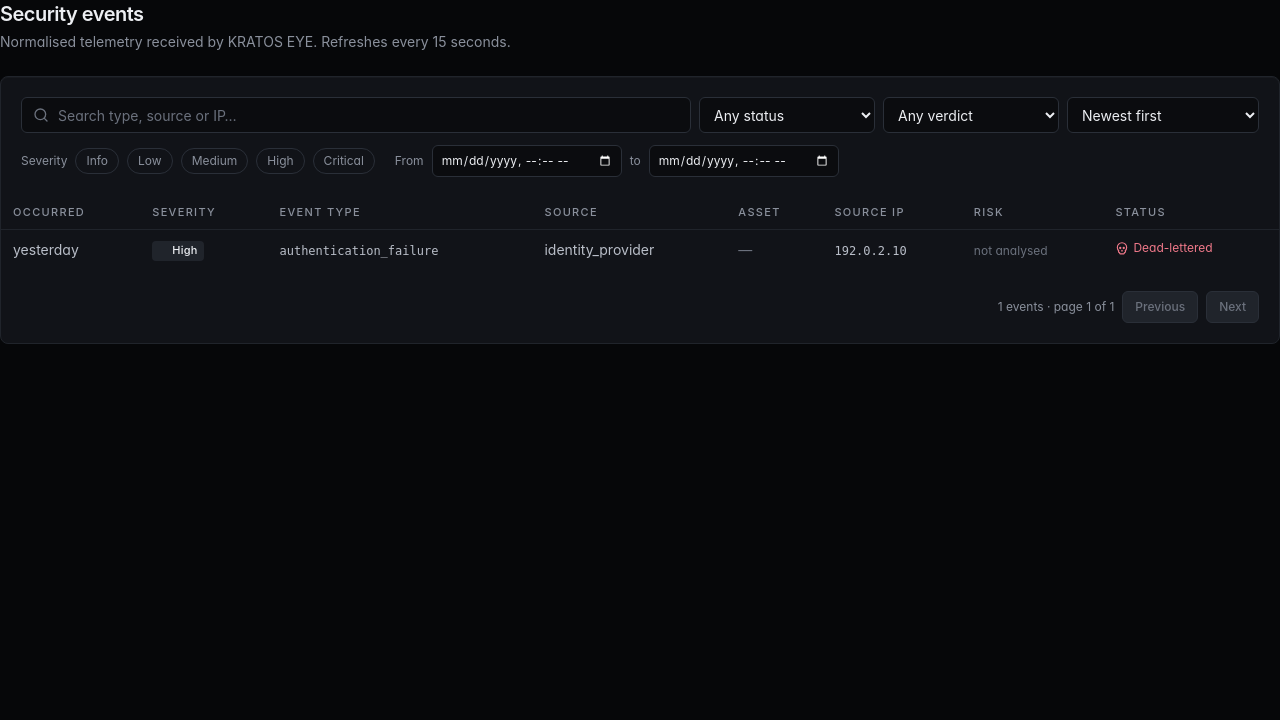
Test: EventsPage › shows replay for analysts on dead-lettered events
Click the text "authentication_failure".
click(359, 251)  # box [280,244,438,258]
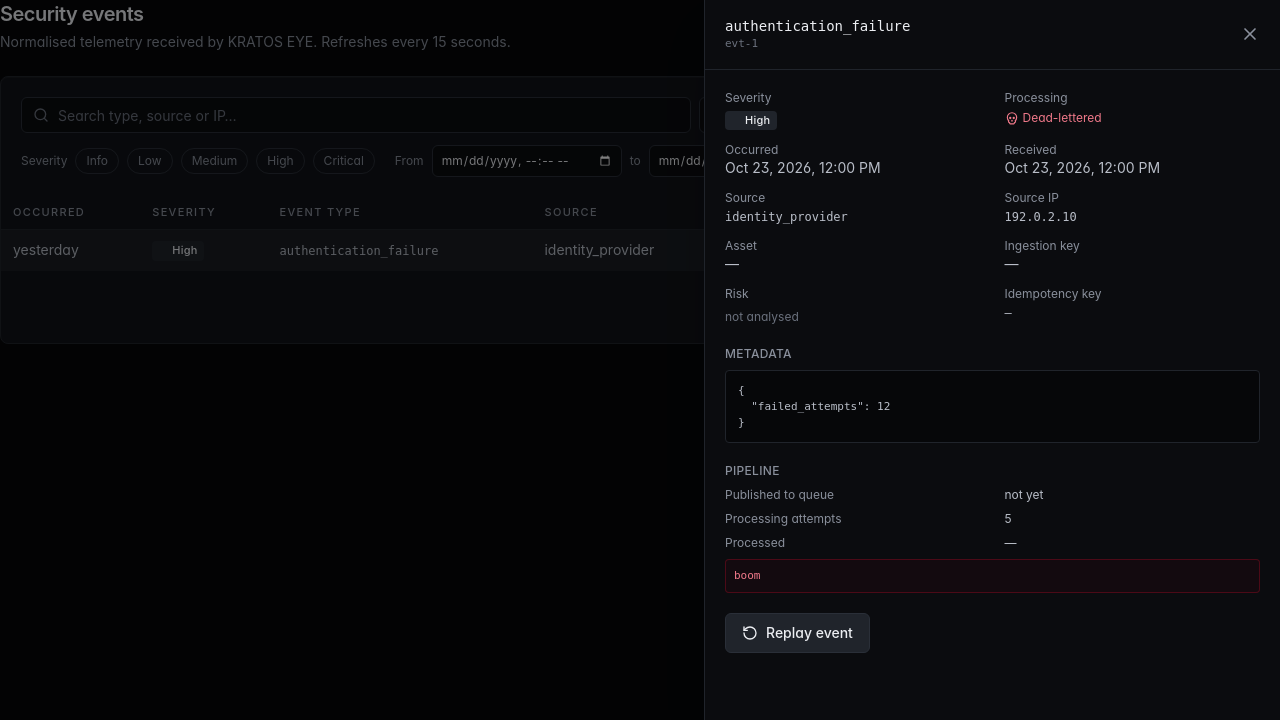
Now the button "Replay event" is shown, box [725,613,870,653]
